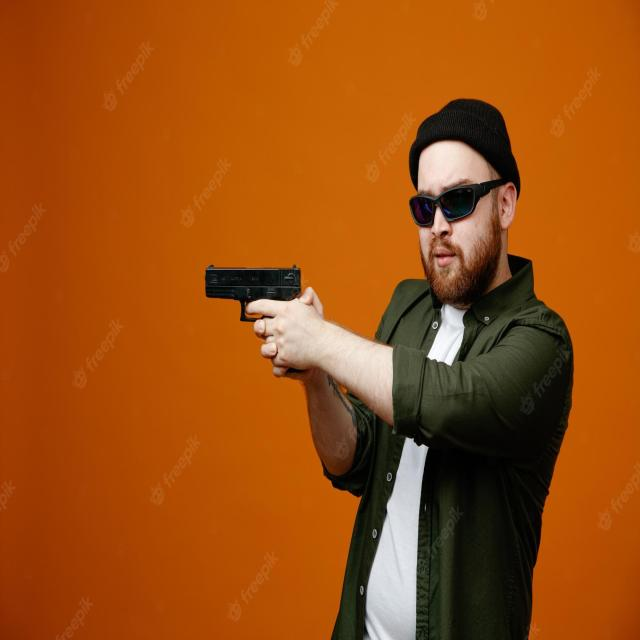HandGun: (205, 265, 303, 322)
